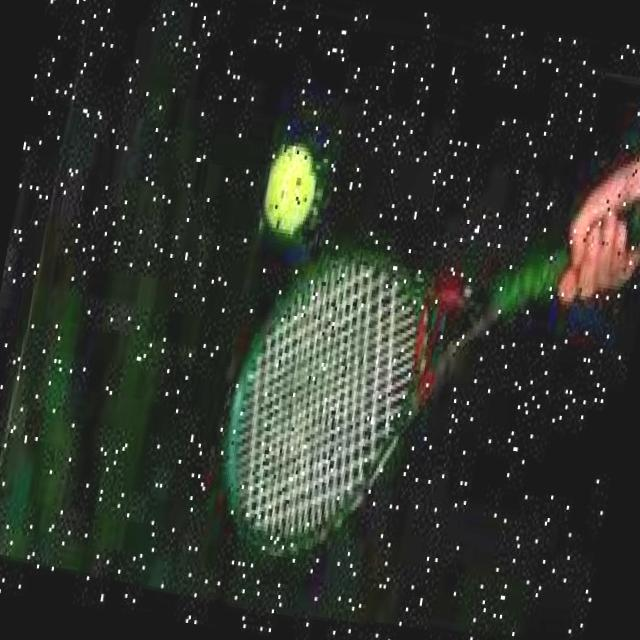Tennis Ball: (260, 140, 334, 251)
